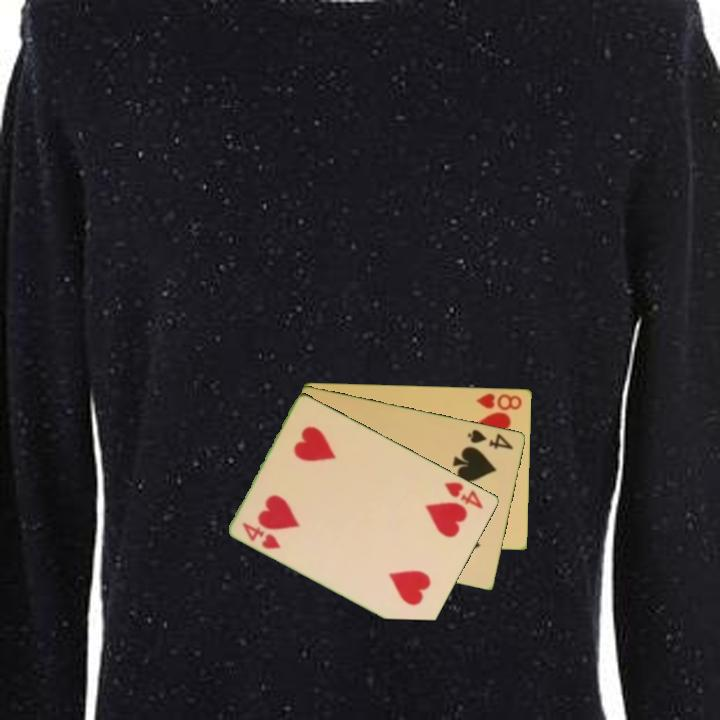4h: (441, 478, 487, 512), (239, 518, 284, 552)
4s: (464, 425, 516, 452)
8h: (473, 390, 525, 413)
